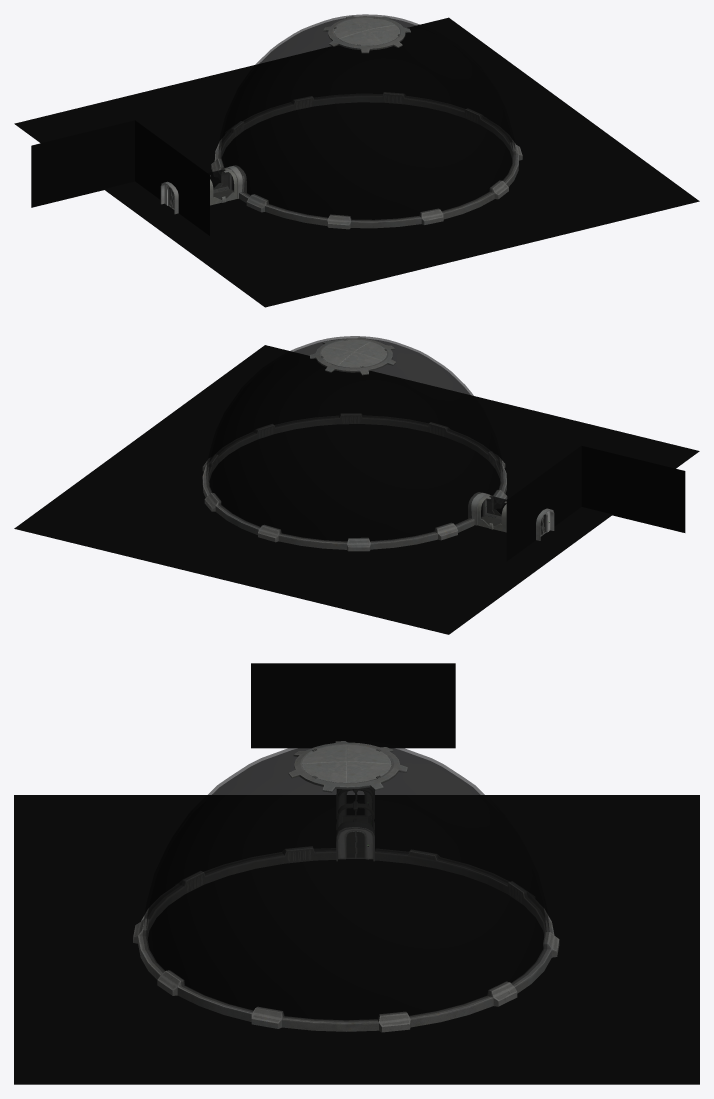
File: THISONE.fbx
3 renders of one model, top to bottom at view 1: azimuth 30°, elevation 25°; view 2: azimuth 150°, elevation 25°; view 3: azimuth 270°, elevation 25°, orthographic. The views are drawn at different scales.
Parts seen in each view (by area): view 1: floor2; view 2: floor2; view 3: floor2.
Part boxes in pixels (bbox=[...]): floor2: bbox=[14, 14, 699, 307]; floor2: bbox=[14, 336, 699, 634]; floor2: bbox=[14, 663, 699, 1084].
Size of the model in its own units: 3983 by 1011 by 3417.
